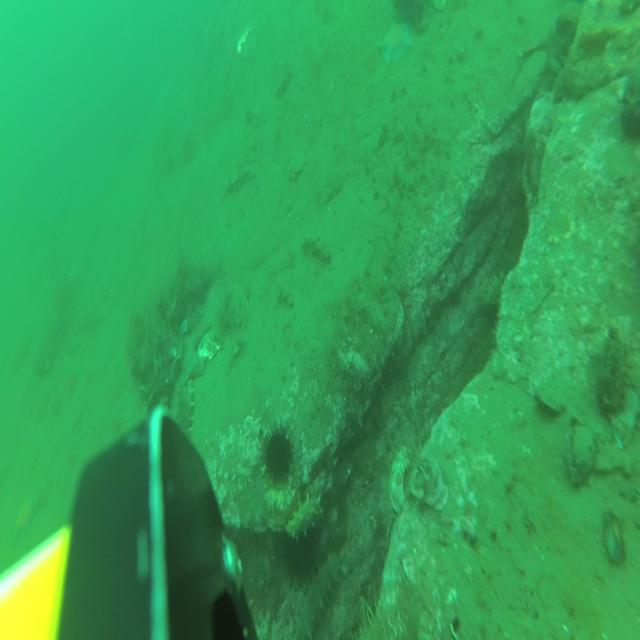echinus: (259, 420, 296, 487), (286, 524, 320, 592)
holothurian: (294, 552, 342, 640), (286, 491, 326, 542), (175, 374, 195, 466), (488, 271, 512, 345), (302, 234, 331, 265), (227, 166, 254, 193), (275, 66, 292, 102), (278, 285, 295, 310), (246, 105, 264, 128)
scallop: (200, 329, 220, 364), (228, 297, 248, 331), (222, 281, 241, 315), (286, 154, 305, 182), (432, 0, 448, 11)
starfish: (380, 22, 414, 68), (14, 491, 40, 543)
